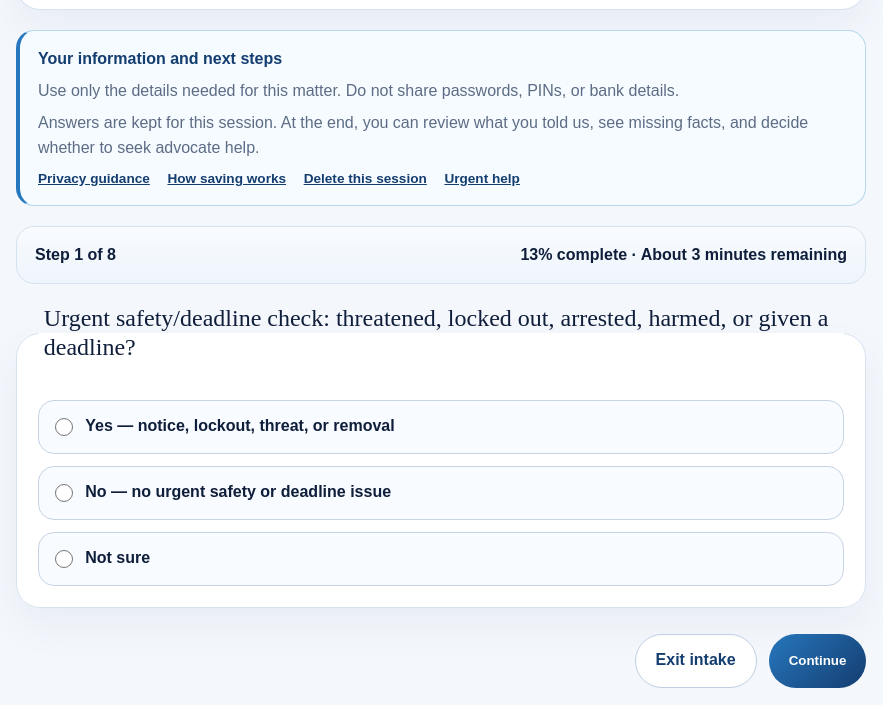
shows a privacy promise and an urgent triage before the standard questions
(page scrolled)
Click the radio button labelled "Yes — notice, lockout, threat, or removal". click: (64, 427)
box: left=55, top=418, right=73, bottom=436
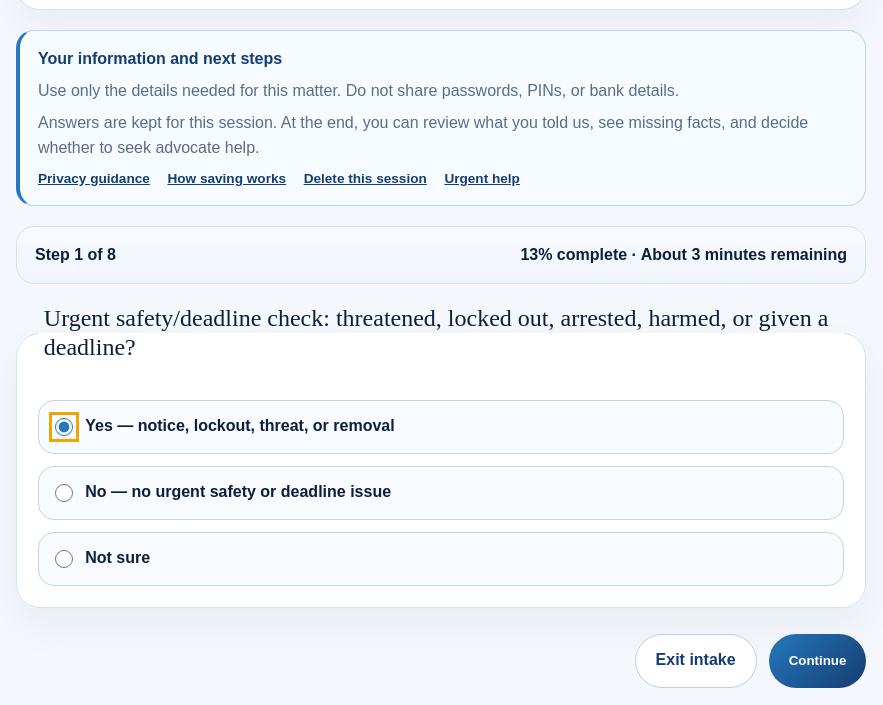
Click the button "Continue". click: (818, 661)
box: left=769, top=634, right=866, bottom=688
(page scrolled)
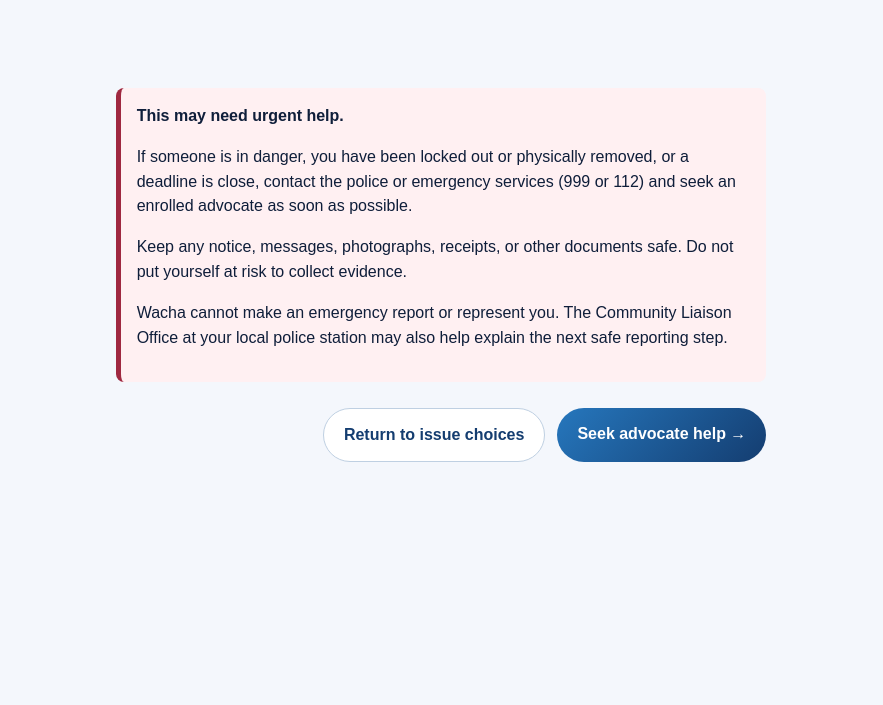
Result: the message shows "urgent help" at left=137, top=107, right=344, bottom=124
Result: the message shows "enrolled advocate" at left=137, top=148, right=736, bottom=214
